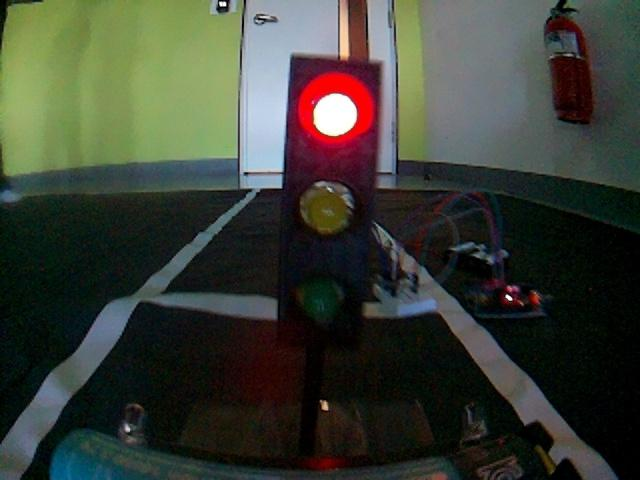red_light: (216, 35, 439, 389)
